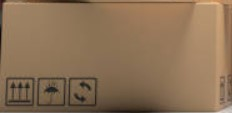stock: (1, 1, 232, 112)
